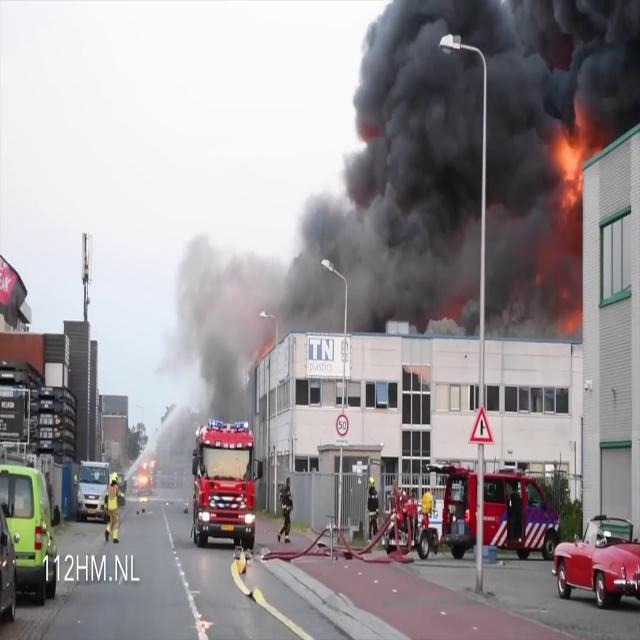Smoke: (320, 1, 636, 340), (171, 207, 307, 425)
